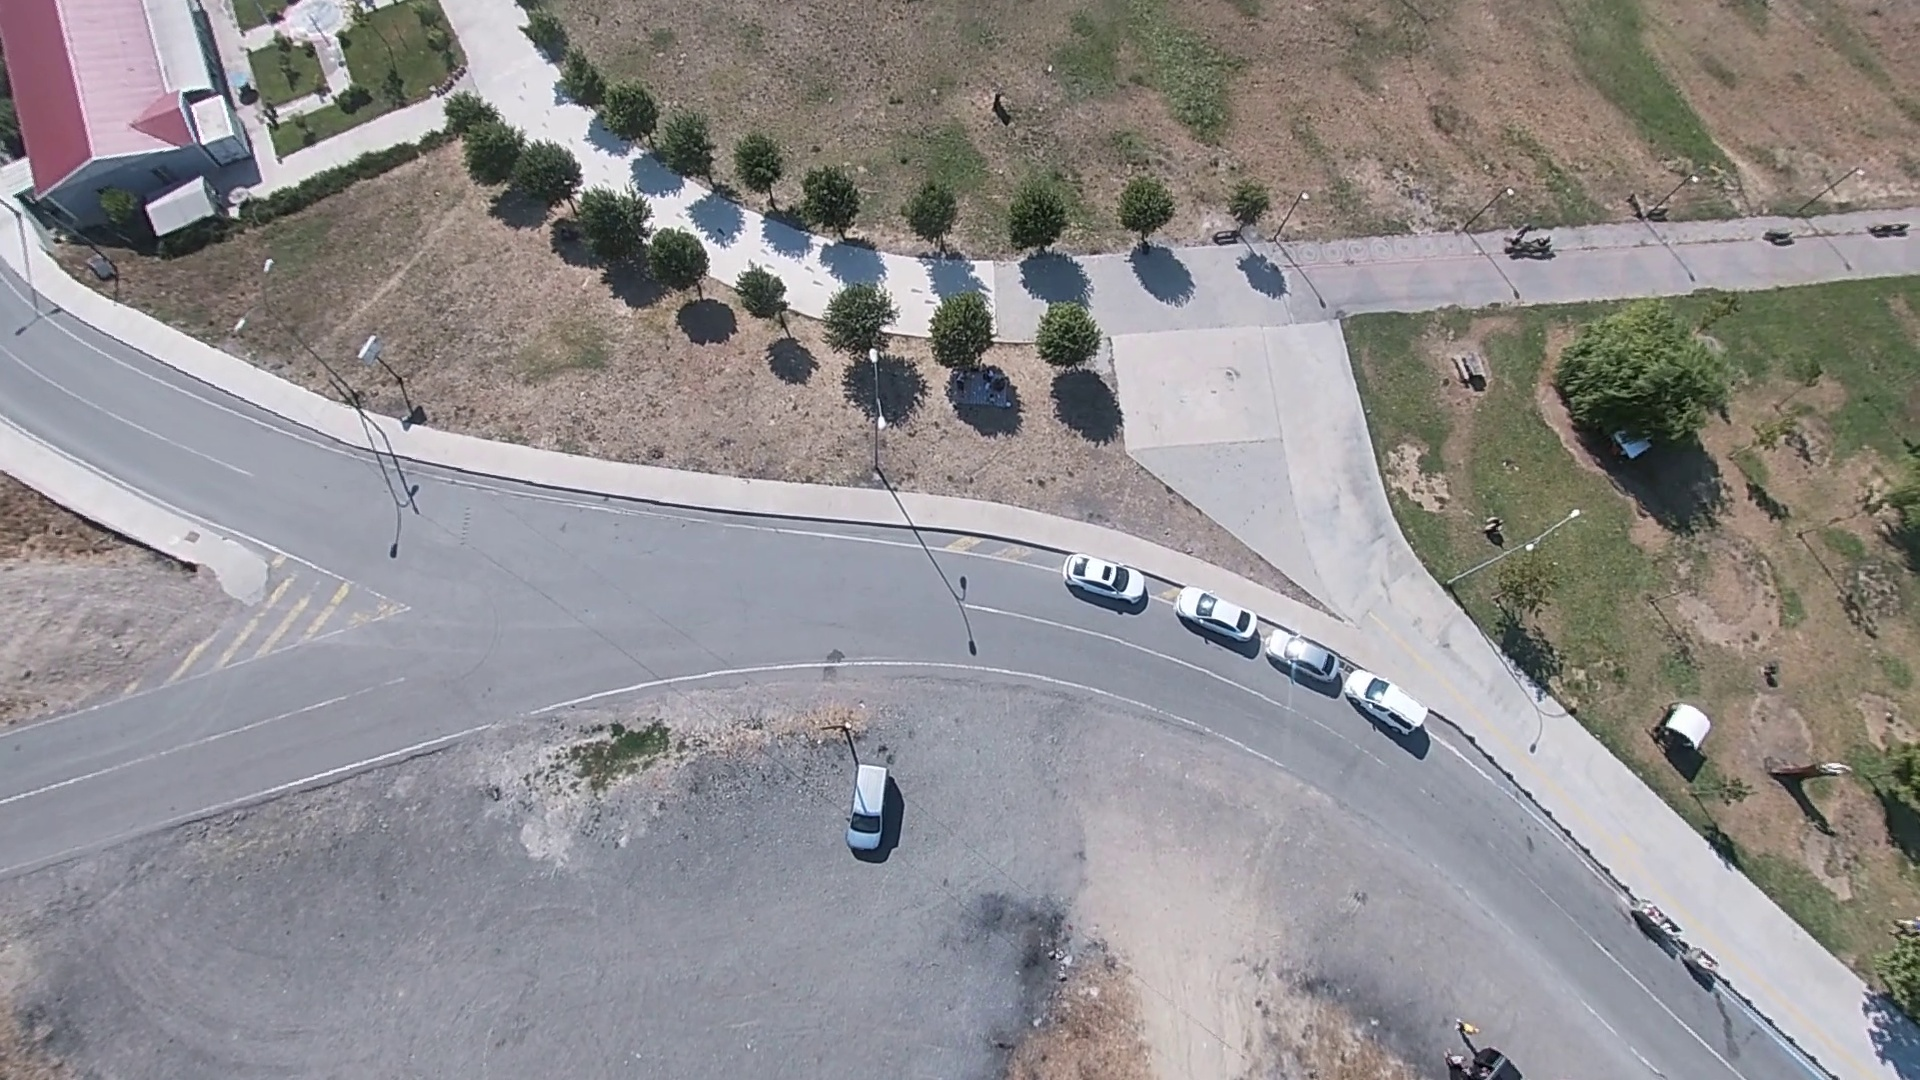arac: (1168, 589, 1441, 747), (1057, 548, 1151, 616), (845, 754, 898, 855), (1454, 1022, 1517, 1080)
insan: (988, 90, 1011, 131), (1482, 513, 1504, 551)
